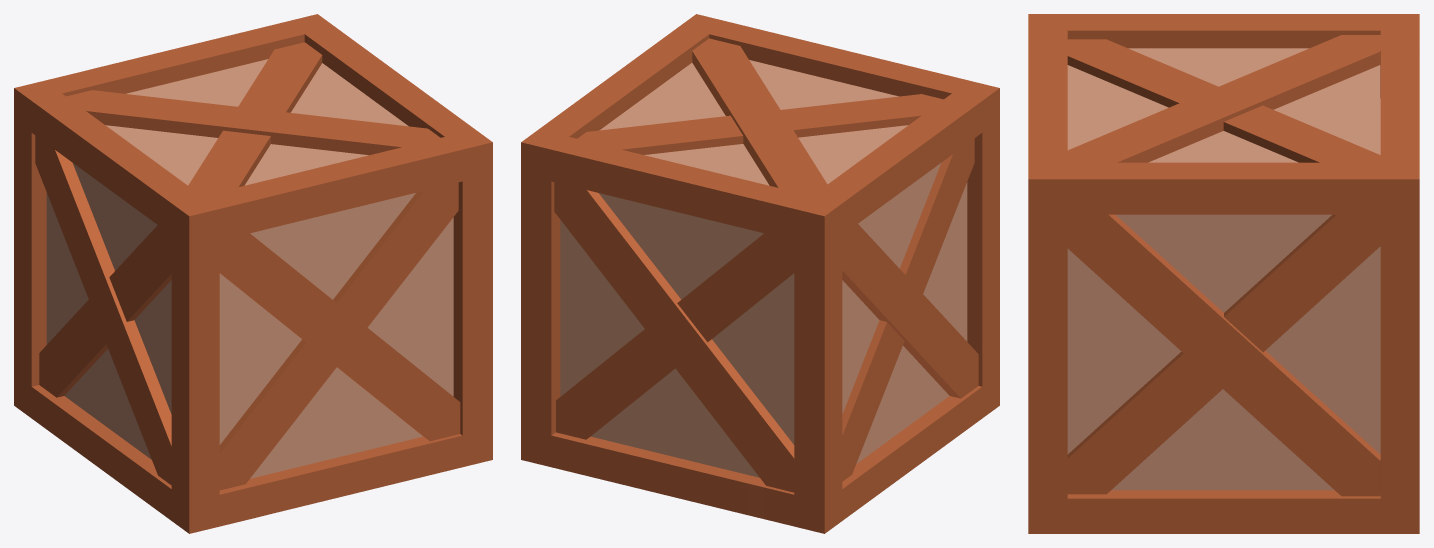
The model's file is LargeCrate.fbx.
3 views of the same model, side by side, from view 1: azimuth 30°, elevation 25°; view 2: azimuth 150°, elevation 25°; view 3: azimuth 270°, elevation 25° (orthographic). The views are drawn at different scales.
Parts seen in each view (by area): view 1: Cube; view 2: Cube; view 3: Cube.
Part boxes in pixels (bbox=[...]): Cube: bbox=[14, 14, 492, 533]; Cube: bbox=[521, 14, 999, 533]; Cube: bbox=[1028, 14, 1419, 533].
Bounding box in the file's own units: 200 × 200 × 200.
